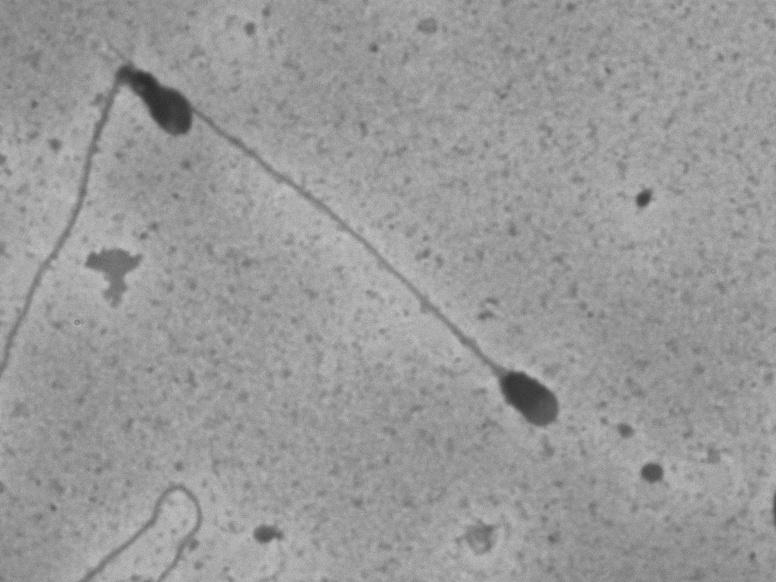Normal: (191, 86, 573, 453)
